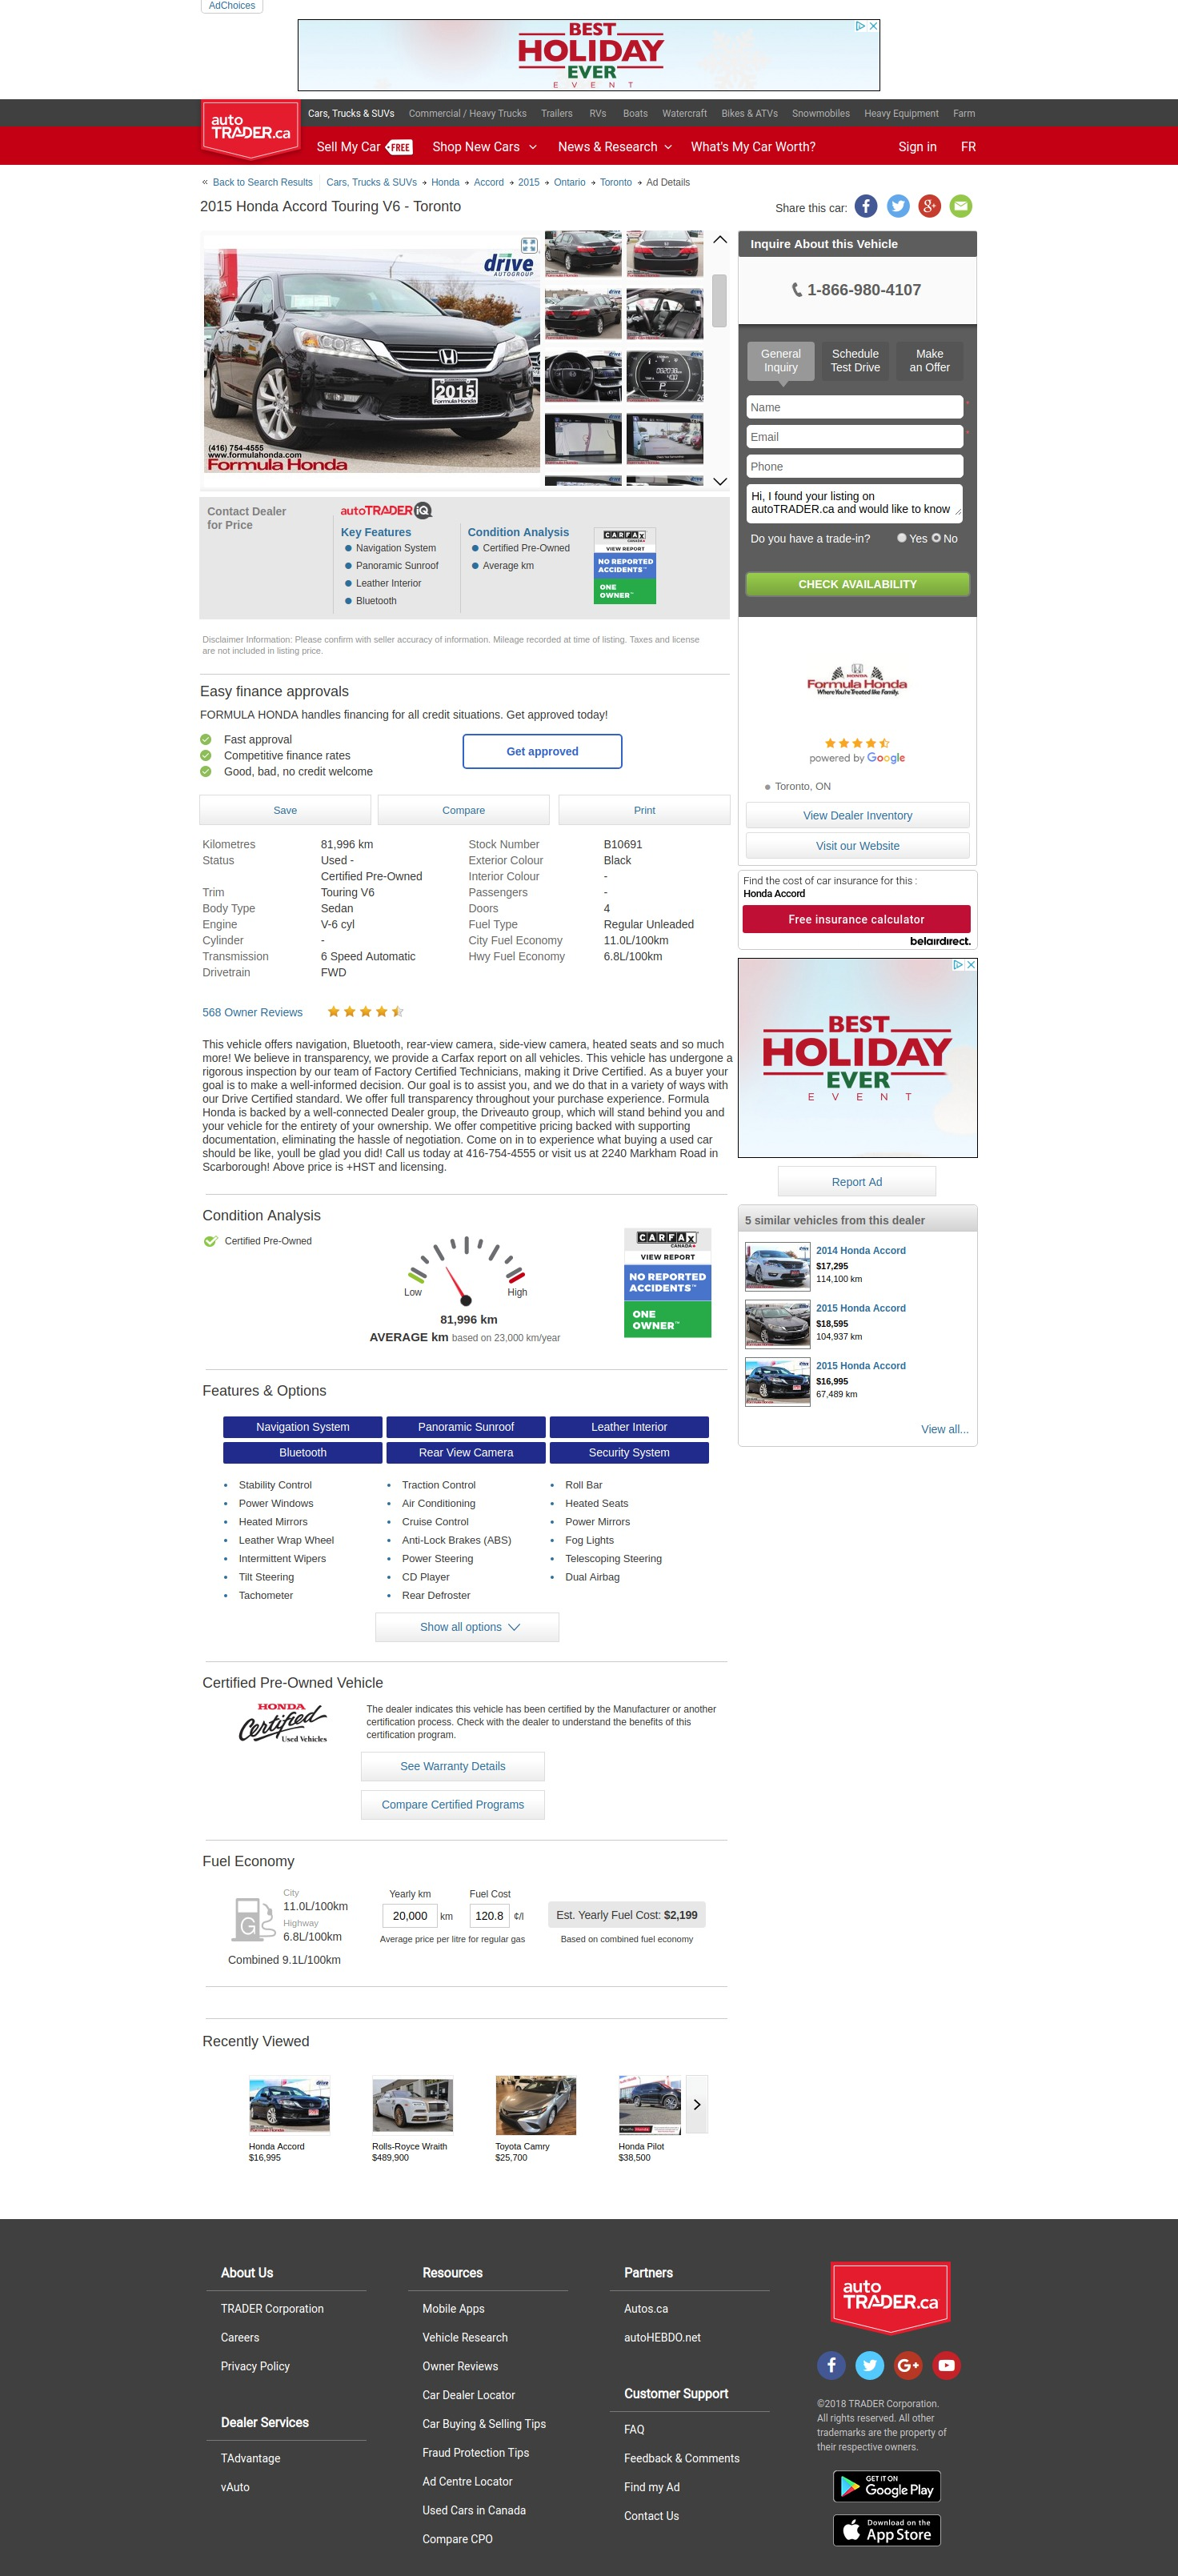car: (713, 478, 729, 488)
